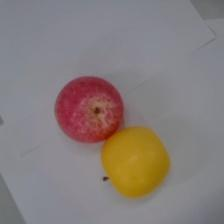red: (54, 75, 125, 144)
yellow: (100, 125, 171, 199)
